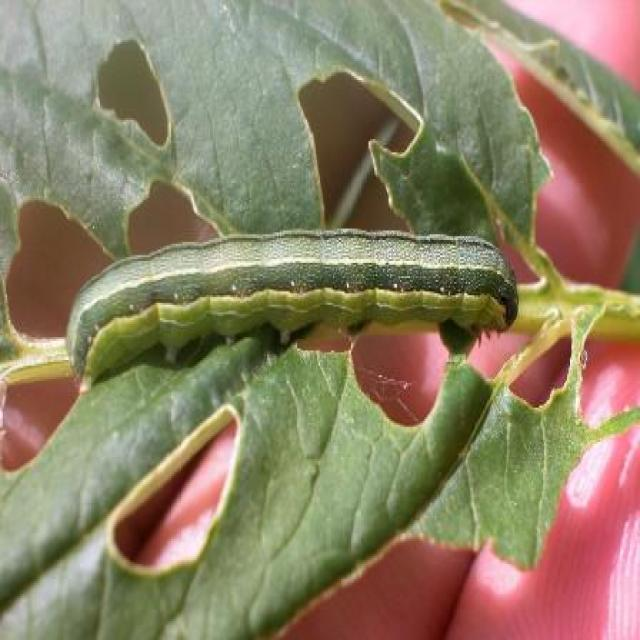BeetArmyWorm-Larva-: (57, 227, 524, 393)
